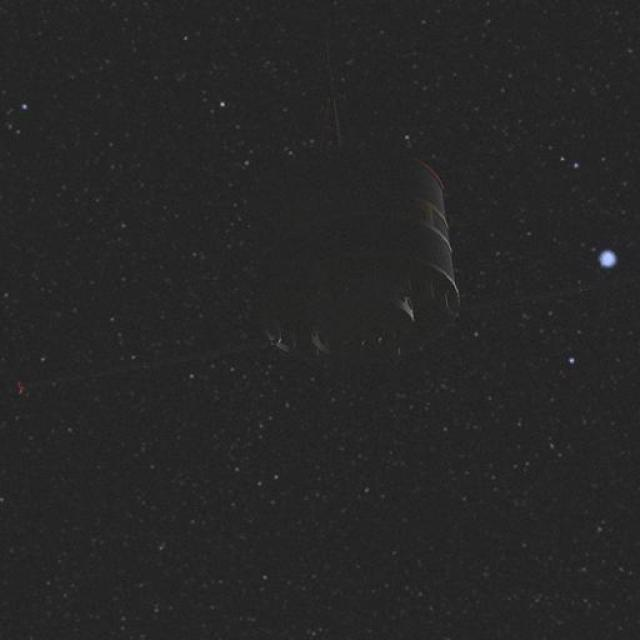double_start: (228, 141, 488, 396)
